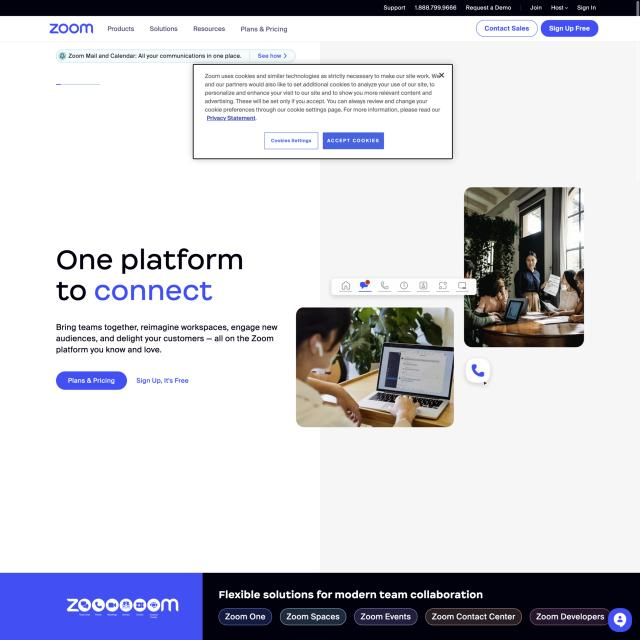footer: (0, 572, 640, 640)
logo: (48, 21, 96, 36)
navigation: (106, 23, 290, 37), (381, 3, 599, 14)
progress bar: (54, 83, 102, 87)
